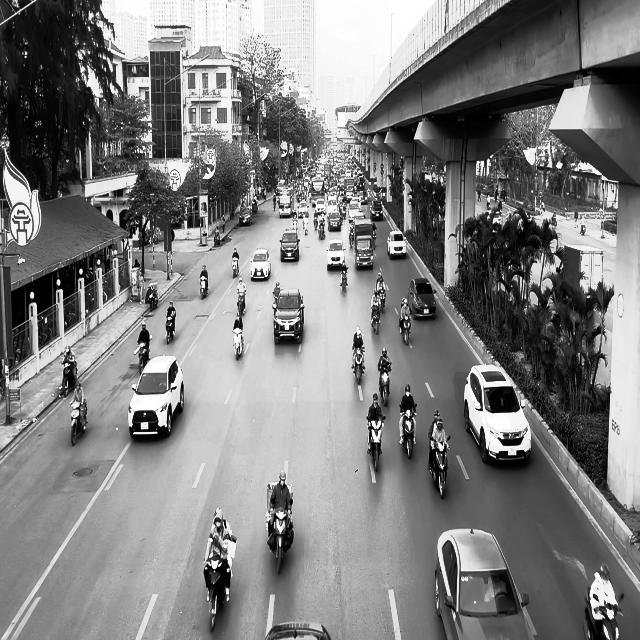car: (434, 527, 536, 639), (463, 364, 531, 464), (128, 354, 184, 438), (272, 288, 305, 345), (408, 278, 437, 320), (279, 229, 300, 261), (250, 248, 270, 280), (325, 238, 345, 270), (387, 230, 406, 258), (238, 206, 253, 226)
motorbike: (204, 536, 237, 632), (266, 482, 294, 574), (582, 588, 624, 640), (428, 431, 450, 499), (366, 416, 385, 472), (399, 404, 417, 459), (70, 398, 87, 446), (58, 361, 77, 398), (377, 362, 391, 407), (395, 307, 411, 346), (134, 340, 150, 375), (352, 344, 364, 384), (232, 326, 244, 360), (146, 283, 158, 310), (165, 313, 175, 344), (370, 305, 380, 334), (339, 266, 348, 292), (200, 276, 208, 299), (232, 256, 239, 278)
